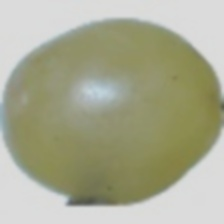grapes: (47, 21, 196, 164)
